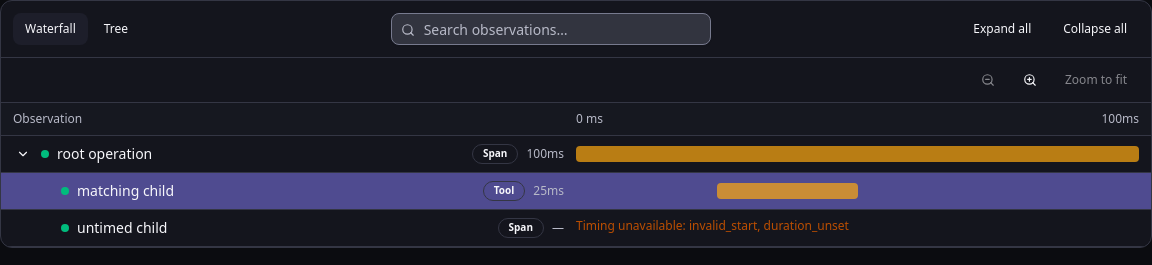
Scenario: TraceWorkspace › collapses descendants while leaving the selected observation controlled by its parent
What coordinates should you click on to do the following:
click the button named "Collapse root operation"
I would click on:
 (23, 154)
Its box is [13,144,33,164].
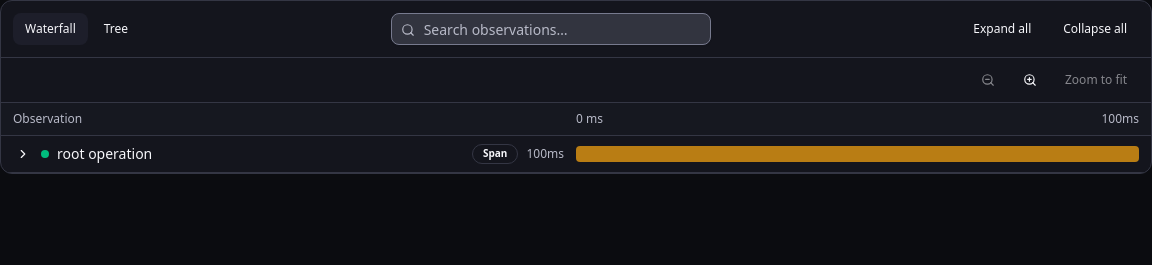
Result: the number of list items with test id "span-row" is 1 at [1,136,1151,173]
